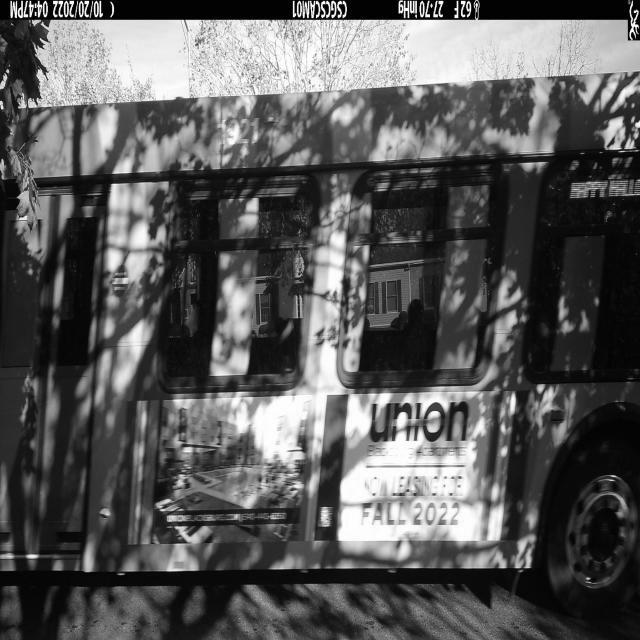Bus: (0, 71, 640, 617)
